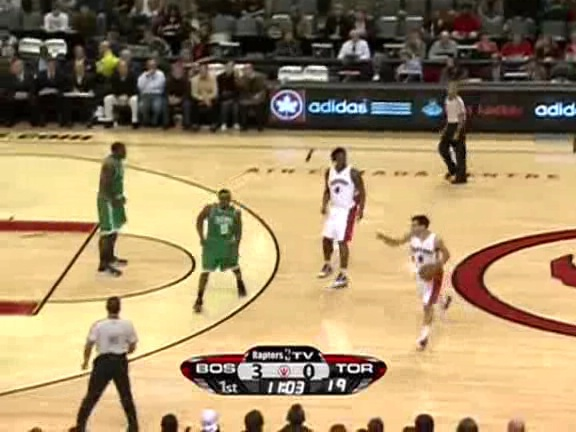person: (206, 203, 240, 284), (205, 203, 239, 284), (207, 203, 241, 284), (206, 202, 240, 283), (206, 204, 240, 285)
target_negative: (425, 103, 558, 422), (170, 293, 450, 428), (196, 312, 520, 408), (297, 154, 528, 195), (507, 191, 532, 428), (500, 345, 547, 394)
